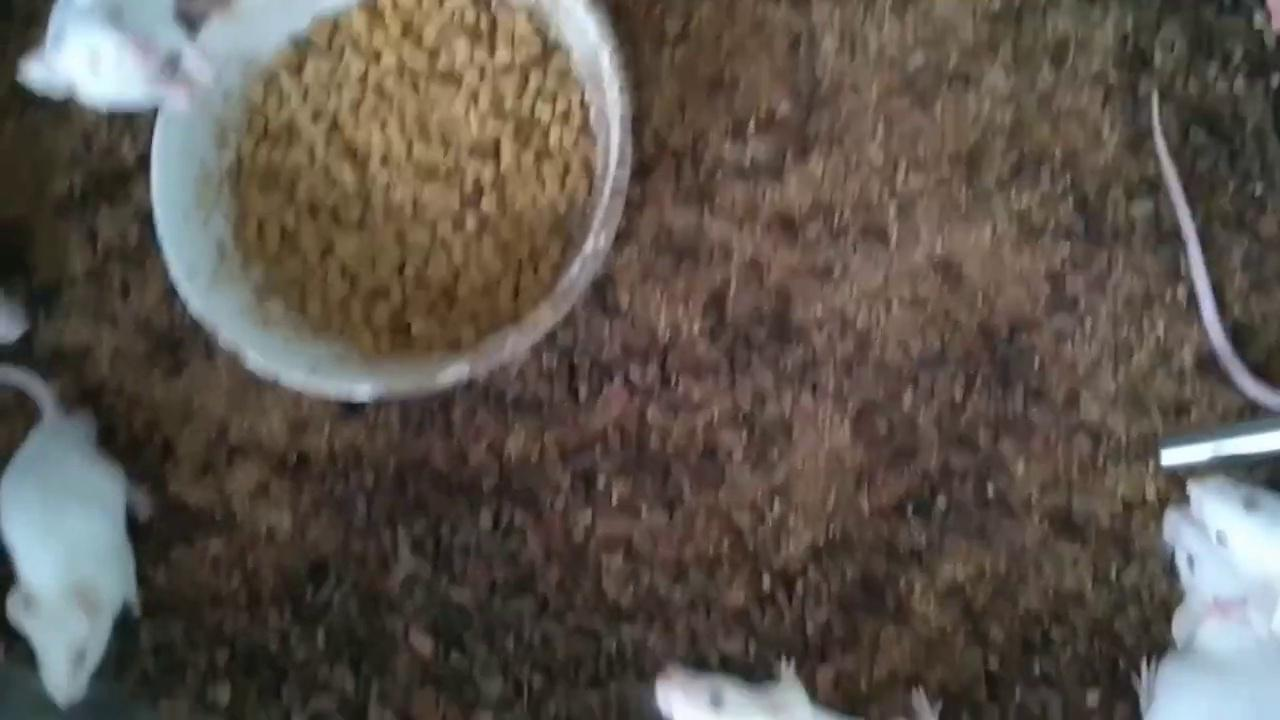rat: (0, 404, 151, 710), (20, 0, 217, 110), (653, 657, 945, 720), (1185, 472, 1280, 580)
